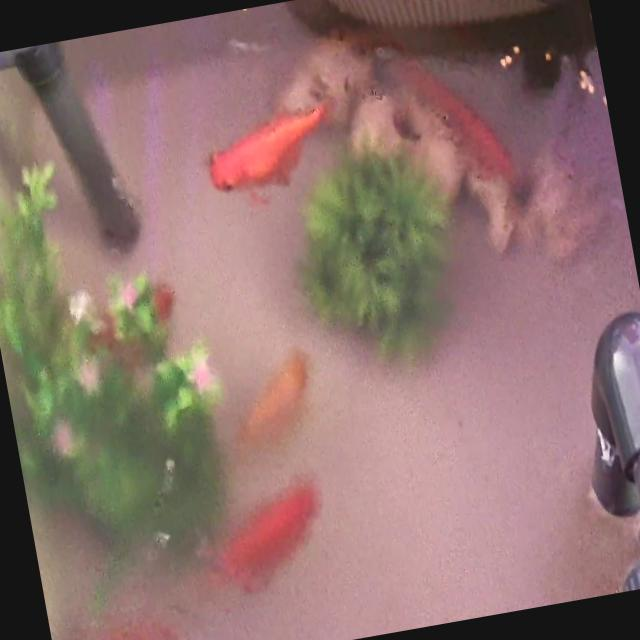fish: (388, 39, 520, 200), (191, 477, 334, 598), (199, 104, 325, 200), (228, 348, 320, 454), (49, 607, 186, 640), (147, 282, 181, 327)
